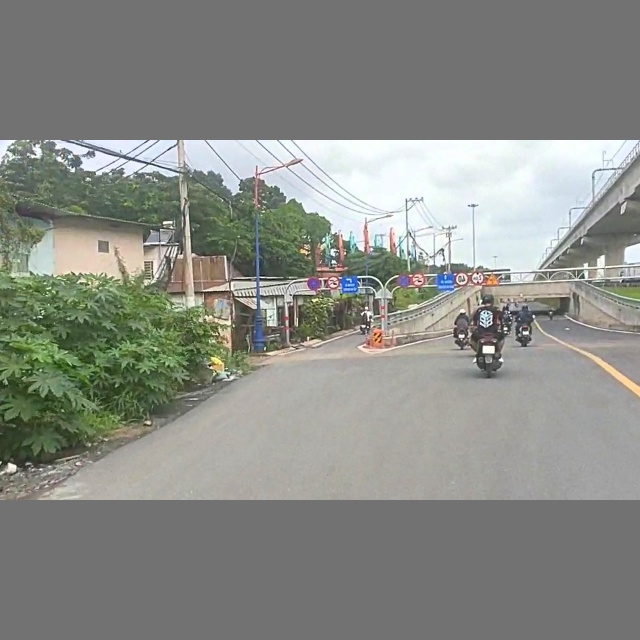P.107: (327, 275, 340, 289), (411, 273, 425, 285)
P.117*: (470, 271, 485, 285)
P.127*40: (455, 271, 469, 285)
P.130: (307, 276, 320, 291), (397, 274, 410, 288)
W.239b*: (485, 272, 501, 285)
